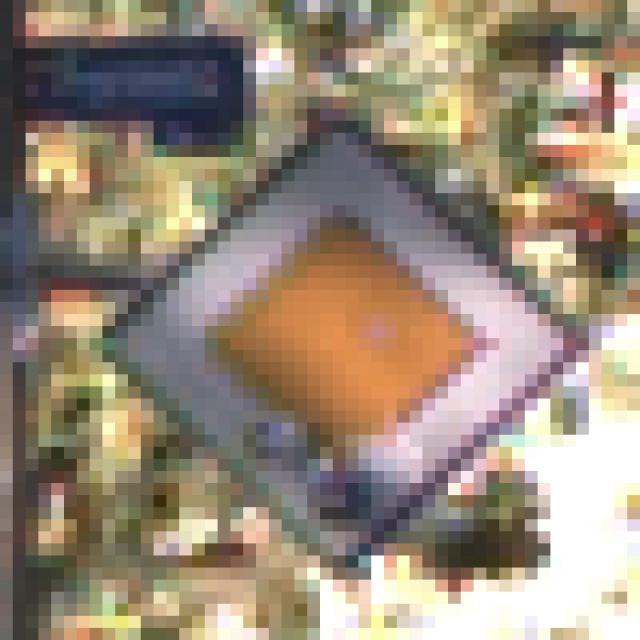Main Road: (78, 74, 564, 581)
